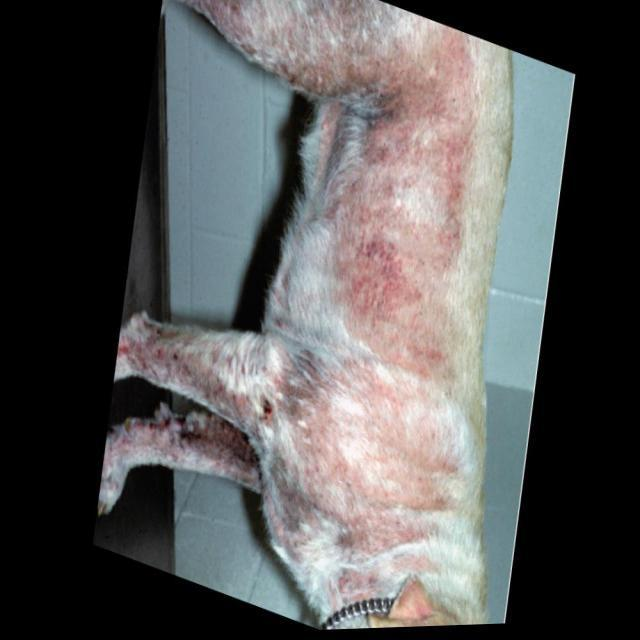allergic dermatitis: (278, 358, 451, 572), (343, 106, 465, 381)
